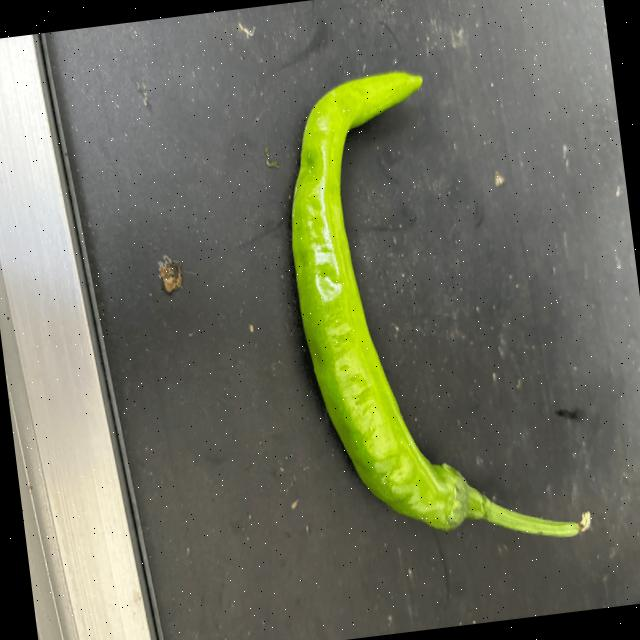chili: (288, 69, 467, 531)
